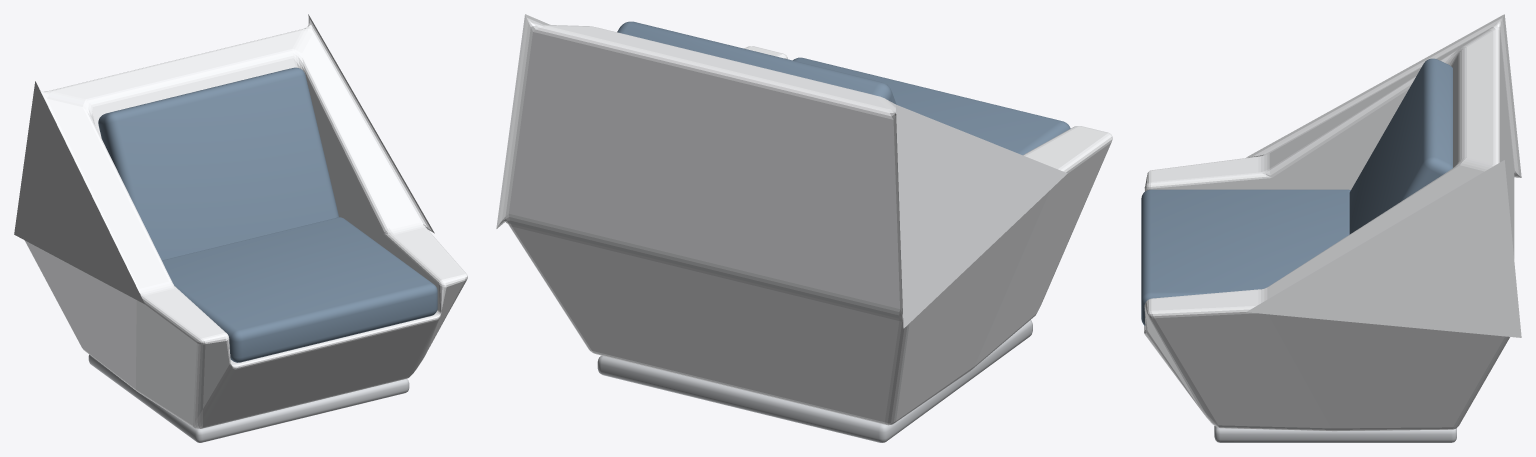
Rendered from prism_geo_chair.glb.
The picture shows the model from 3 angles, left to right: view 1: azimuth 30°, elevation 25°; view 2: azimuth 150°, elevation 25°; view 3: azimuth 270°, elevation 25°; orthographic projection. The views are drawn at different scales.
Parts seen in each view (by area): view 1: prism_geo_chair; view 2: prism_geo_chair; view 3: prism_geo_chair.
Part boxes in pixels (x1,y1,x2,y2): prism_geo_chair: (14, 14, 467, 442); prism_geo_chair: (496, 14, 1112, 442); prism_geo_chair: (1141, 14, 1521, 442).
Size of the model in its own units: 0.9836 by 0.8624 by 0.9876.
